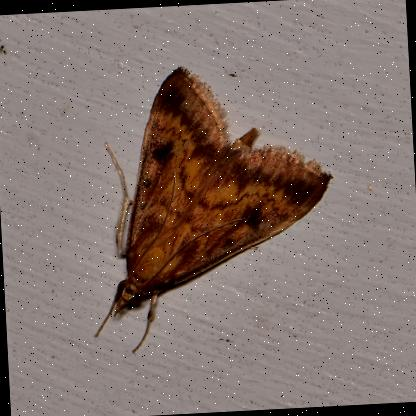Asian Corn Borer Moth: (77, 56, 345, 358)
